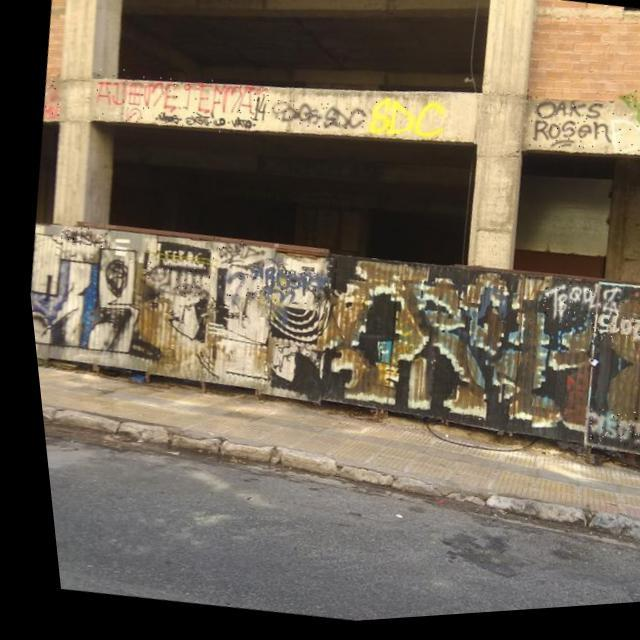-: (87, 59, 271, 149), (213, 257, 329, 324), (521, 100, 614, 167), (246, 92, 366, 142), (530, 281, 620, 338), (362, 95, 450, 152), (569, 408, 640, 469), (134, 258, 208, 306), (152, 107, 255, 140), (203, 238, 267, 278), (580, 316, 640, 352), (606, 112, 640, 172), (52, 222, 108, 252), (609, 94, 640, 142), (36, 76, 64, 121)
